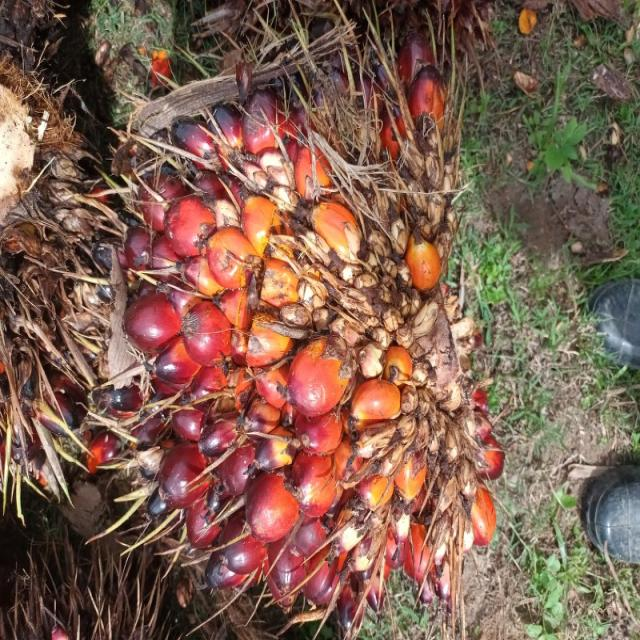fraksi 1: (0, 25, 480, 640)
